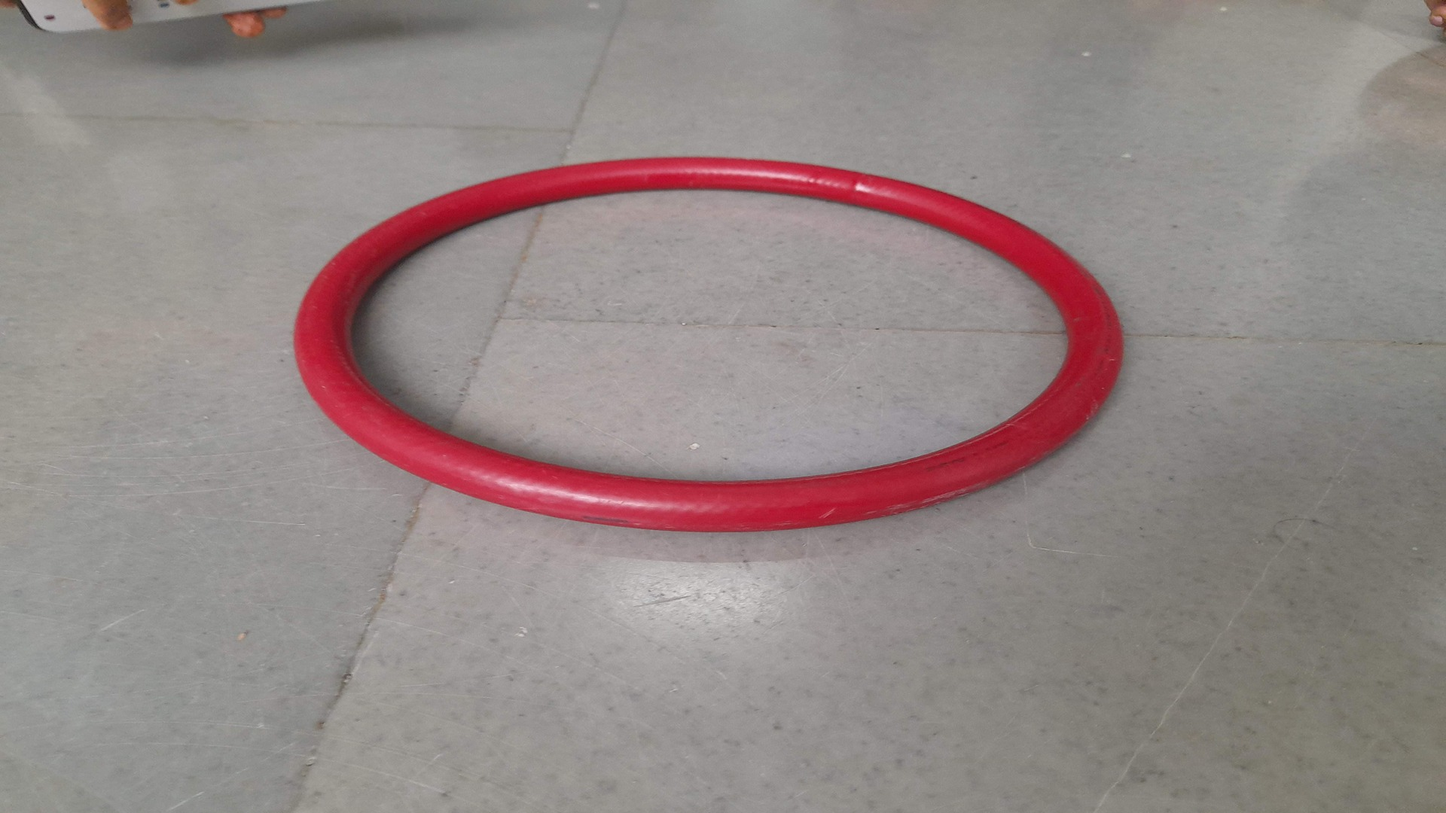Red ring: (296, 158, 1126, 519)
